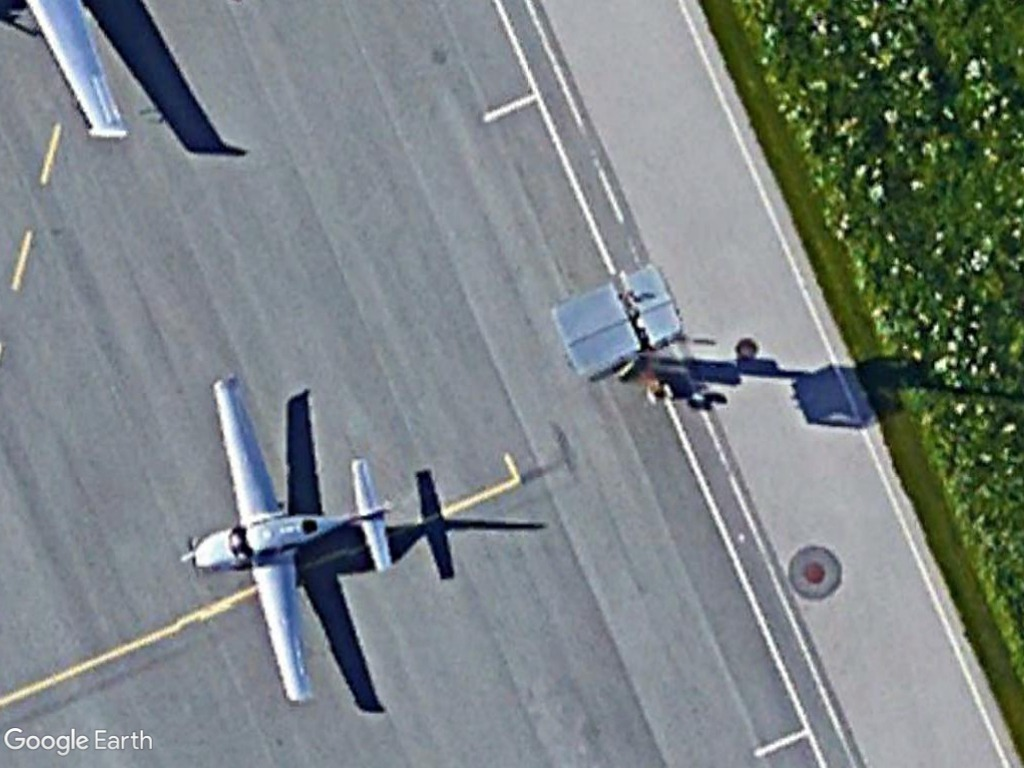trainer: (174, 372, 403, 710)
